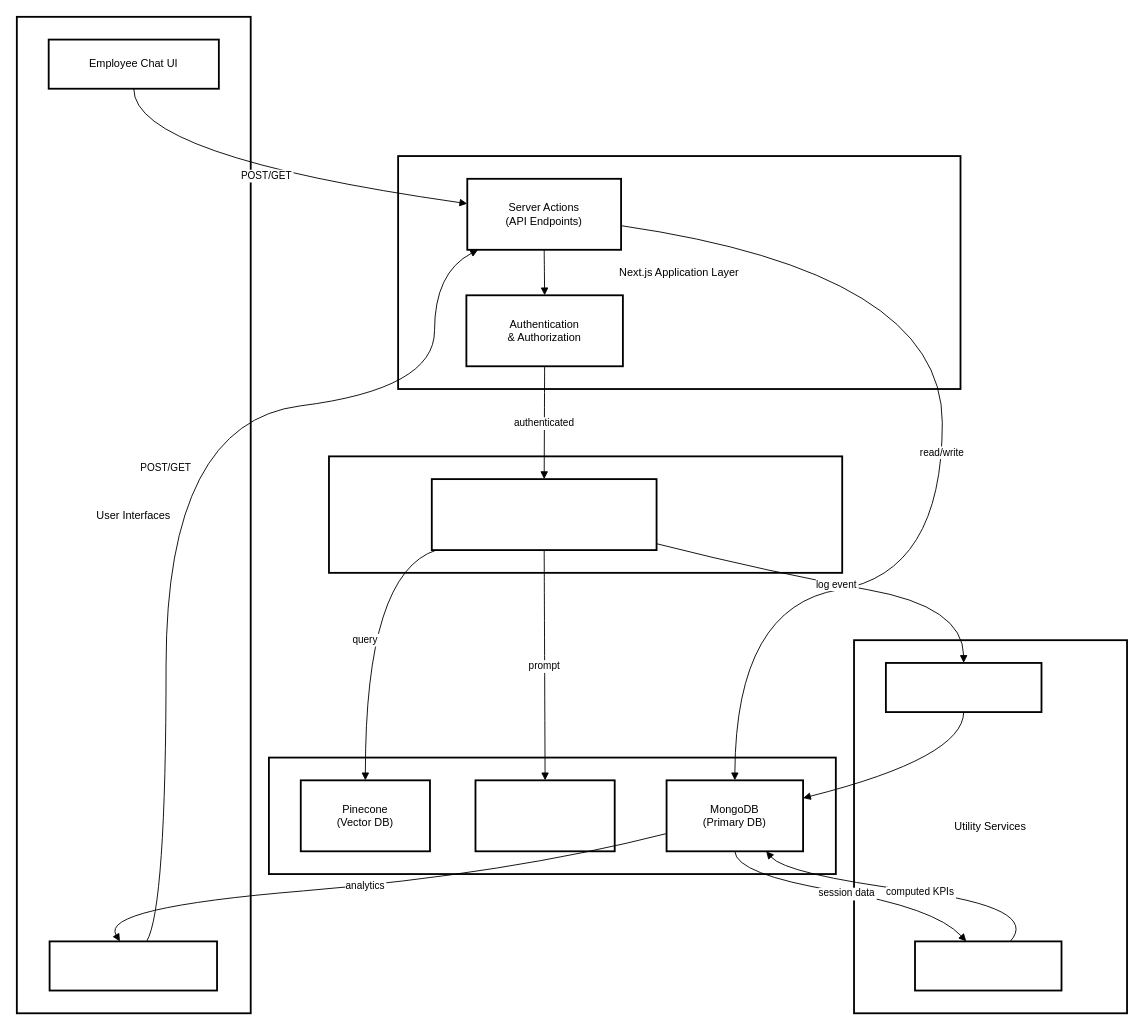
This 1143x1029 diagram has some shape labels left out. The centre of each missing label's shape, as x and y in pixels:
Admin Dashboard: point 132,965
KPI Calculator: point 988,965
LangChain.js Orchestrator (Agent Loops): point 543,514
Llama 3.1 8B (Inference): point 544,815
Logging Service: point 963,687
